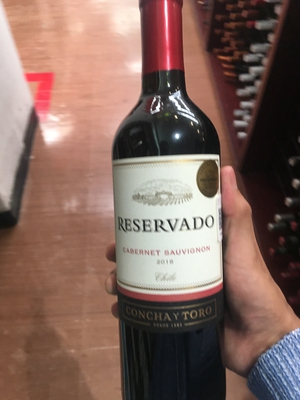reservado cabernet sauvignon: (108, 4, 241, 400)
